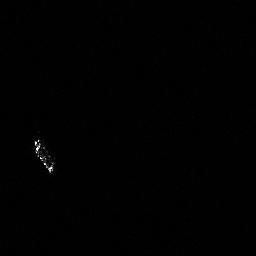ship: (33, 140, 54, 172)
